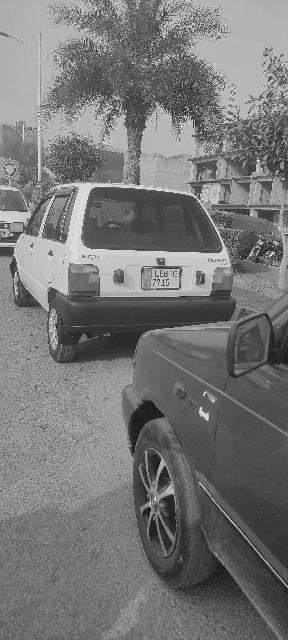Number: (151, 269, 173, 289)
